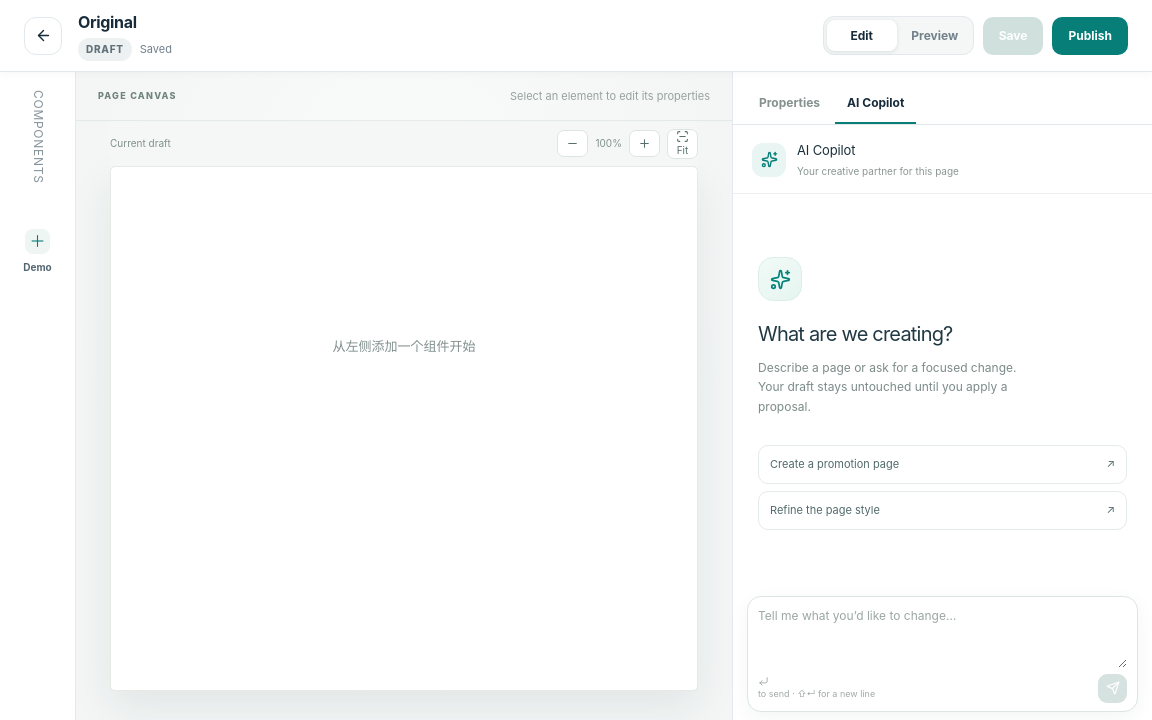
Test: EditorPage › loads the route page and saves a changed title as a clean draft
The image size is (1152, 720).
Expected: the button "Save" is disabled, left=983, top=16, right=1044, bottom=54
Step 1. Replace the text in the field named "Page title" with "Renamed" → coordinates (238, 22), box left=78, top=10, right=398, bottom=34
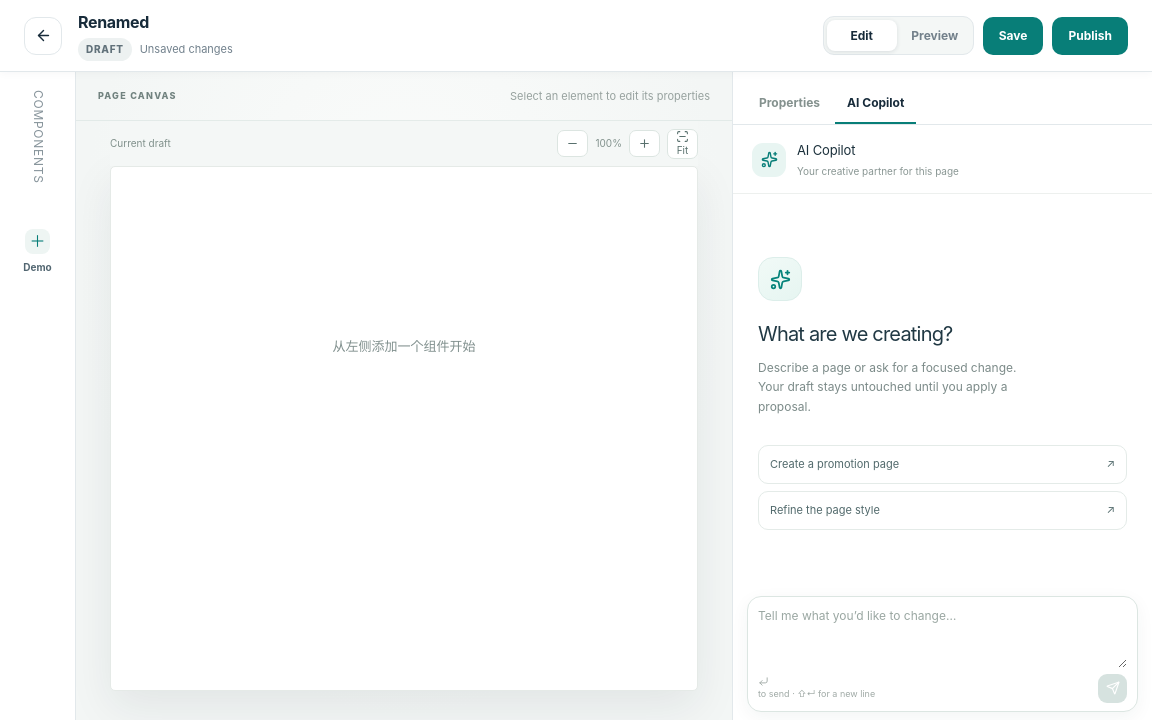
Result: the text "Unsaved changes" is shown at left=140, top=41, right=233, bottom=58
Result: the button "Save" is enabled
Step 2. Click the button "Save" → coordinates (1013, 36), box left=983, top=16, right=1044, bottom=54
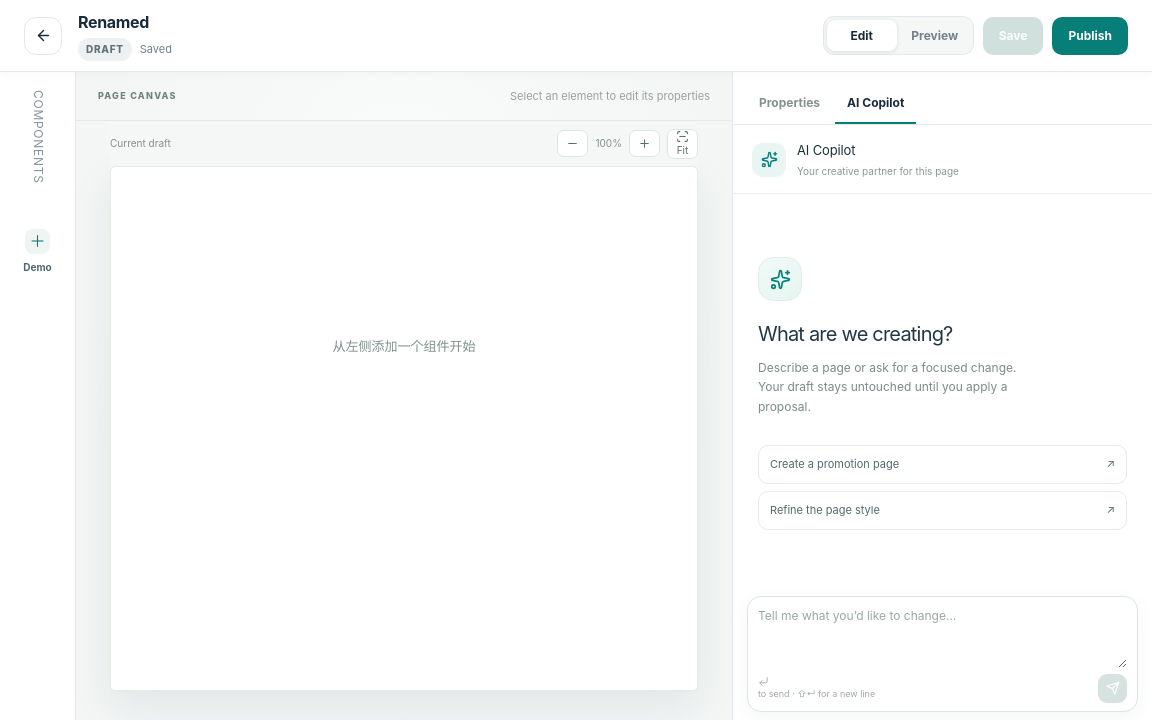
Expected: the text "Saved" is shown, left=140, top=41, right=172, bottom=58
Result: the button "Save" is disabled at left=983, top=16, right=1044, bottom=54
